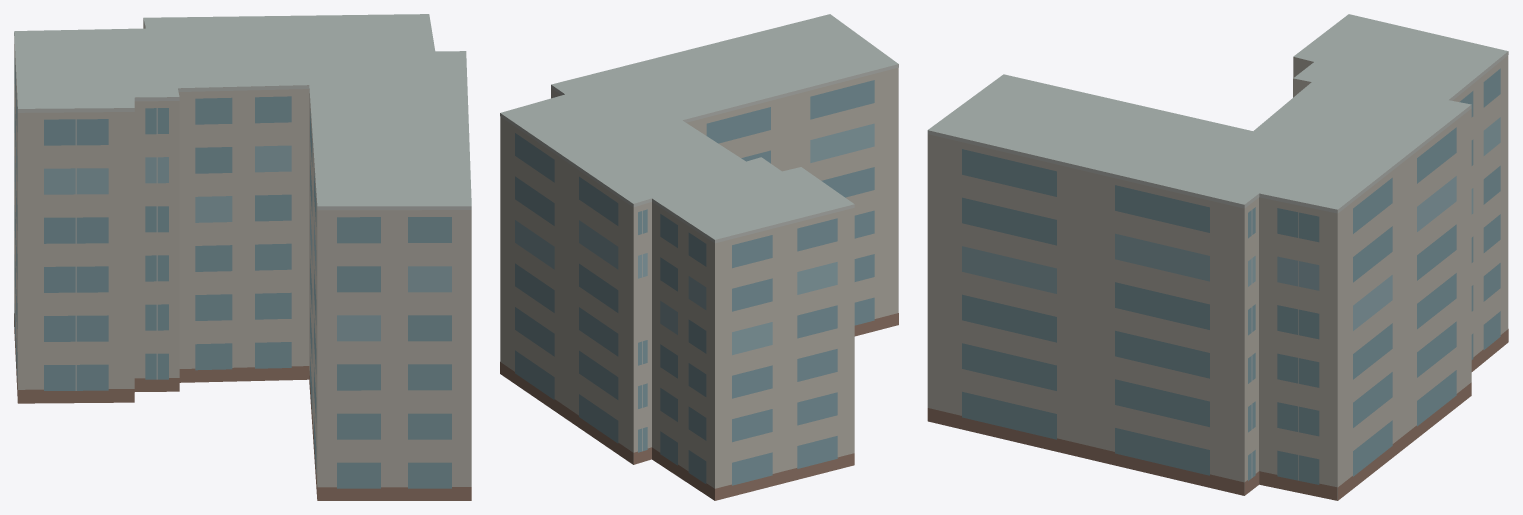
Rendered from survey-upis-32847772.glb.
3 views of the same model, side by side, from view 1: azimuth 30°, elevation 25°; view 2: azimuth 150°, elevation 25°; view 3: azimuth 270°, elevation 25° (orthographic). The views are drawn at different scales.
Visible parts, largest first — view 1: survey-upis-32847772.tmp; view 2: survey-upis-32847772.tmp; view 3: survey-upis-32847772.tmp.
Part boxes in pixels (<box>): survey-upis-32847772.tmp: <box>14,14,471,500</box>; survey-upis-32847772.tmp: <box>500,14,898,500</box>; survey-upis-32847772.tmp: <box>927,14,1508,500</box>.
Size of the model in its own units: 26.39 by 18.3 by 33.09.
